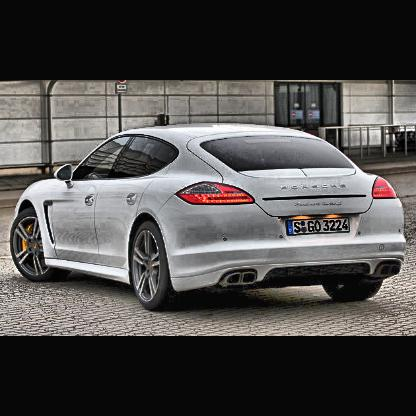Porsche Panamera Sedan 2012: (11, 124, 408, 312)
